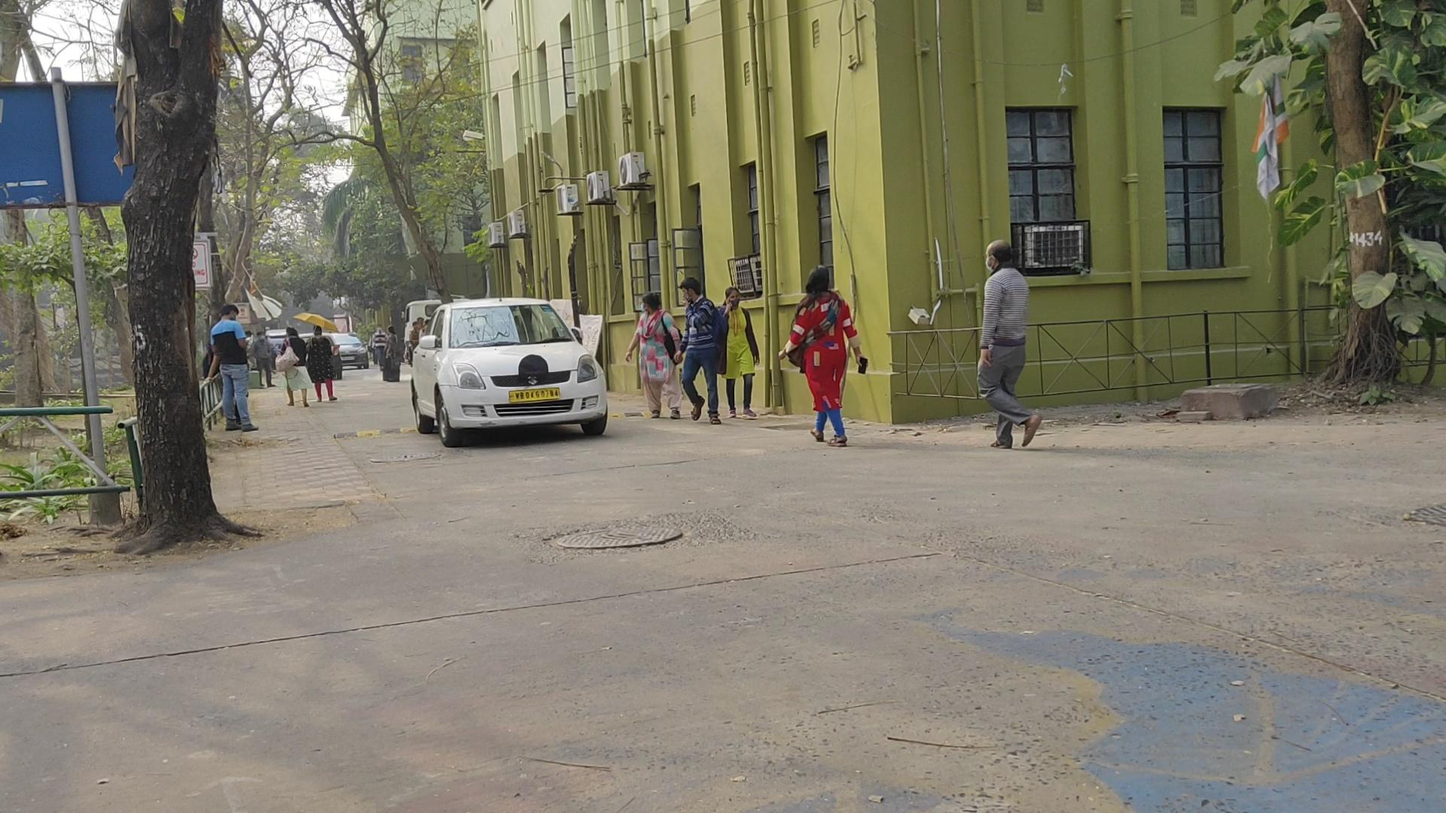car: (410, 297, 608, 447), (328, 332, 369, 371)
